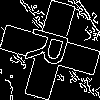R: (25, 25, 79, 72)
